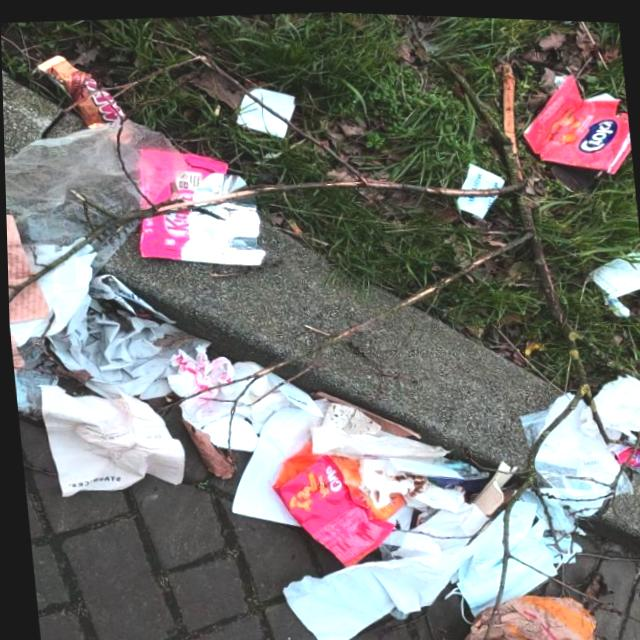Mask: (434, 528, 579, 624), (385, 448, 461, 479)
Paper: (269, 490, 505, 640), (34, 372, 187, 501), (5, 231, 105, 349), (303, 390, 454, 463), (171, 353, 290, 439), (449, 583, 605, 640), (350, 447, 471, 516), (452, 492, 542, 578), (517, 475, 610, 535), (83, 266, 174, 327), (570, 363, 640, 442), (242, 352, 323, 419), (5, 209, 48, 327), (161, 338, 234, 406), (230, 81, 299, 139), (584, 244, 640, 315), (450, 155, 507, 216), (199, 410, 256, 452), (538, 526, 581, 560), (7, 322, 26, 387)
Plastic: (263, 429, 399, 570), (127, 138, 266, 271), (515, 62, 633, 176), (36, 48, 127, 132), (605, 434, 640, 471)
